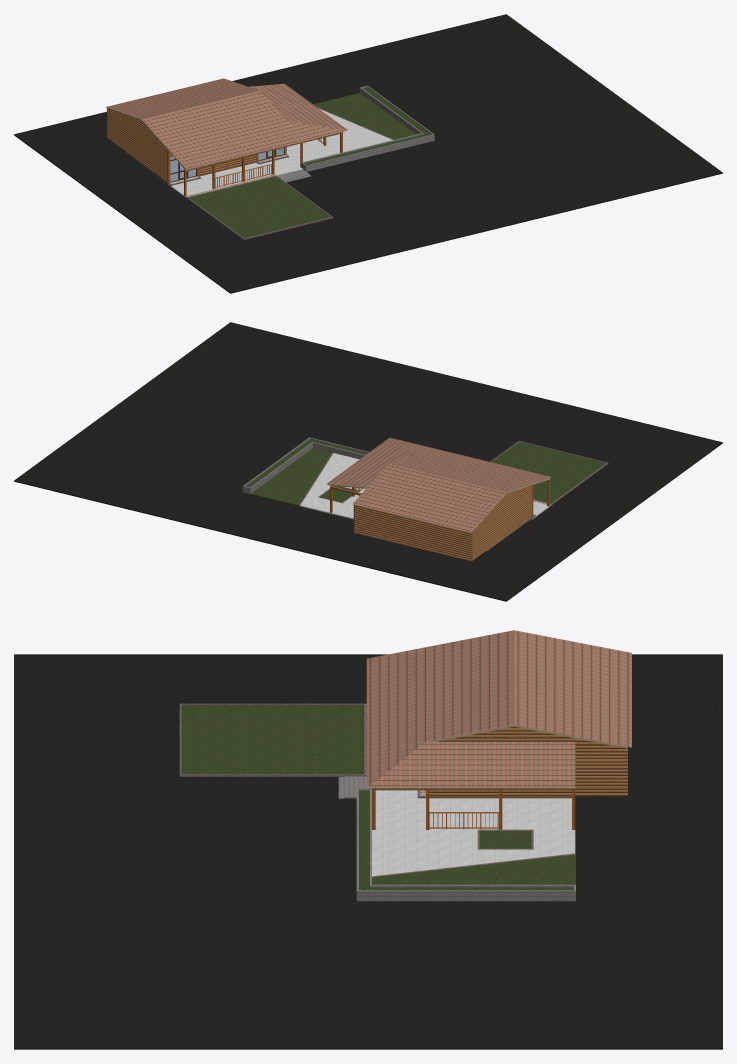
File: uploads_files_4285510_3D2.fbx
3 renders of one model, top to bottom at view 1: azimuth 30°, elevation 25°; view 2: azimuth 150°, elevation 25°; view 3: azimuth 270°, elevation 25°, orthographic. The views are drawn at different scales.
Parts seen in each view (by area): view 1: Дорожное Покрытие - Асфальт Темный, Кровля - Черепица Французская Красная, Трава - Зеленая, Потолок - Плитка 60x60, Дерево - Орех Горизонтальный, Бетон - 10, Камень - Гранит Серый, Дерево - Махагони Вертикальное, Дерево - Орех Вертикальный; view 2: Дорожное Покрытие - Асфальт Темный, Кровля - Черепица Французская Красная, Трава - Зеленая, Дерево - Орех Горизонтальный, Потолок - Плитка 60x60, Бетон - 10, Камень - Гранит Серый; view 3: Дорожное Покрытие - Асфальт Темный, Кровля - Черепица Французская Красная, Трава - Зеленая, Потолок - Плитка 60x60, Дерево - Орех Горизонтальный, Бетон - 10, Камень - Гранит Серый, Дерево - Орех Вертикальный, Дерево - Махагони Вертикальное, Дерево - Сосна Продольная Горизонтальная.
Part boxes in pixels (<box>): Дорожное Покрытие - Асфальт Темный: <box>14,14,722,293</box>; Кровля - Черепица Французская Красная: <box>106,78,347,169</box>; Трава - Зеленая: <box>189,87,431,238</box>; Потолок - Плитка 60x60: <box>167,109,392,196</box>; Дерево - Орех Горизонтальный: <box>106,109,283,181</box>; Бетон - 10: <box>277,85,434,182</box>; Камень - Гранит Серый: <box>168,107,394,239</box>; Дерево - Махагони Вертикальное: <box>167,133,342,195</box>; Дерево - Орех Вертикальный: <box>167,132,342,183</box>; Дорожное Покрытие - Асфальт Темный: <box>14,322,722,601</box>; Кровля - Черепица Французская Красная: <box>326,437,550,532</box>; Трава - Зеленая: <box>245,439,605,506</box>; Дерево - Орех Горизонтальный: <box>353,485,532,561</box>; Потолок - Плитка 60x60: <box>300,453,549,519</box>; Бетон - 10: <box>242,437,369,494</box>; Камень - Гранит Серый: <box>299,441,608,517</box>; Дорожное Покрытие - Асфальт Темный: <box>14,654,722,1049</box>; Кровля - Черепица Французская Красная: <box>366,630,631,787</box>; Трава - Зеленая: <box>181,705,575,890</box>; Потолок - Плитка 60x60: <box>372,790,575,876</box>; Дерево - Орех Горизонтальный: <box>429,726,627,796</box>; Бетон - 10: <box>338,776,575,901</box>; Камень - Гранит Серый: <box>179,703,575,877</box>; Дерево - Орех Вертикальный: <box>372,788,575,798</box>; Дерево - Махагони Вертикальное: <box>372,790,575,829</box>; Дерево - Сосна Продольная Горизонтальная: <box>367,724,627,788</box>.
Size of the model in its own units: 4984 by 3794 by 454.
21 materials, 16 textured.
